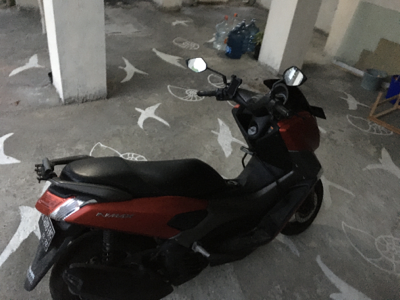moto: (31, 68, 336, 300)
